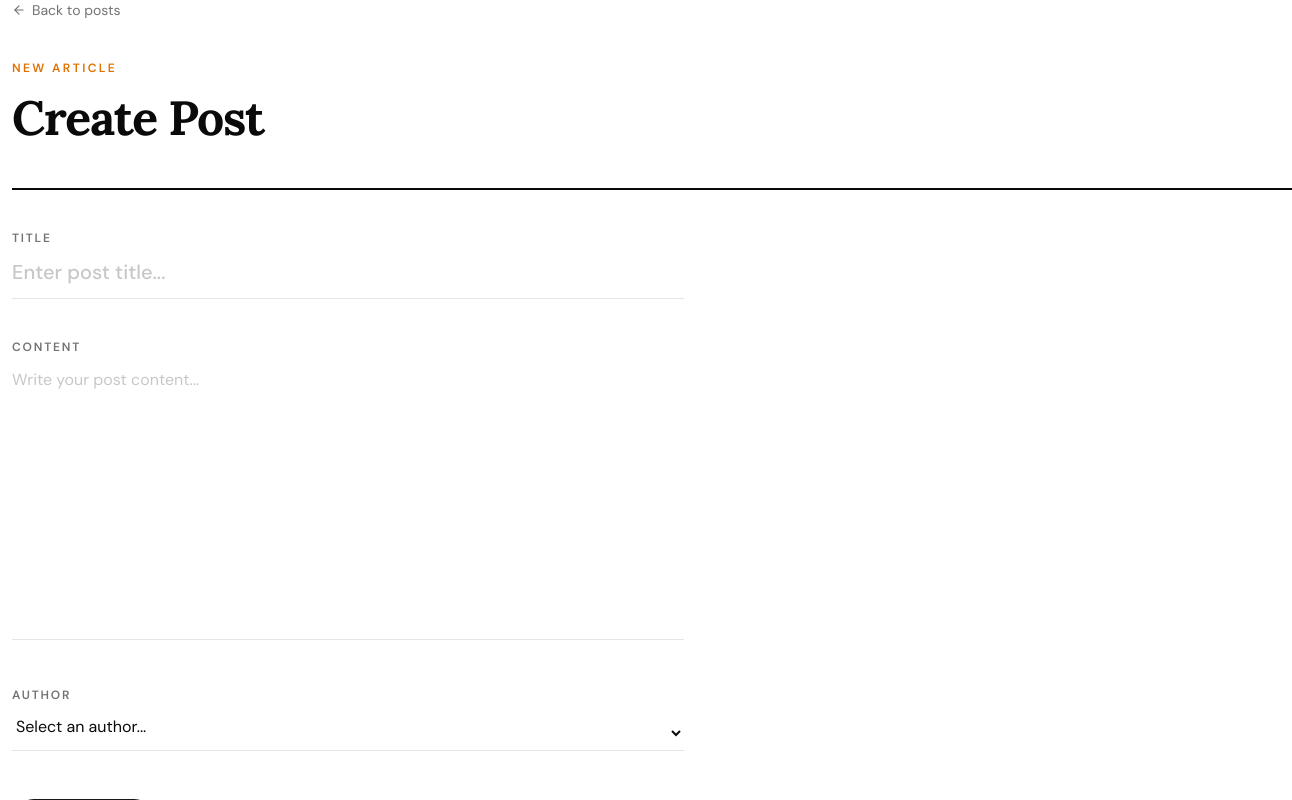
Test: PostForm › create mode › validation › shows an error when the content is shorter than 10 characters
In the field labelled "Title": (348, 278) [12,258,684,299], type "Valid Title"
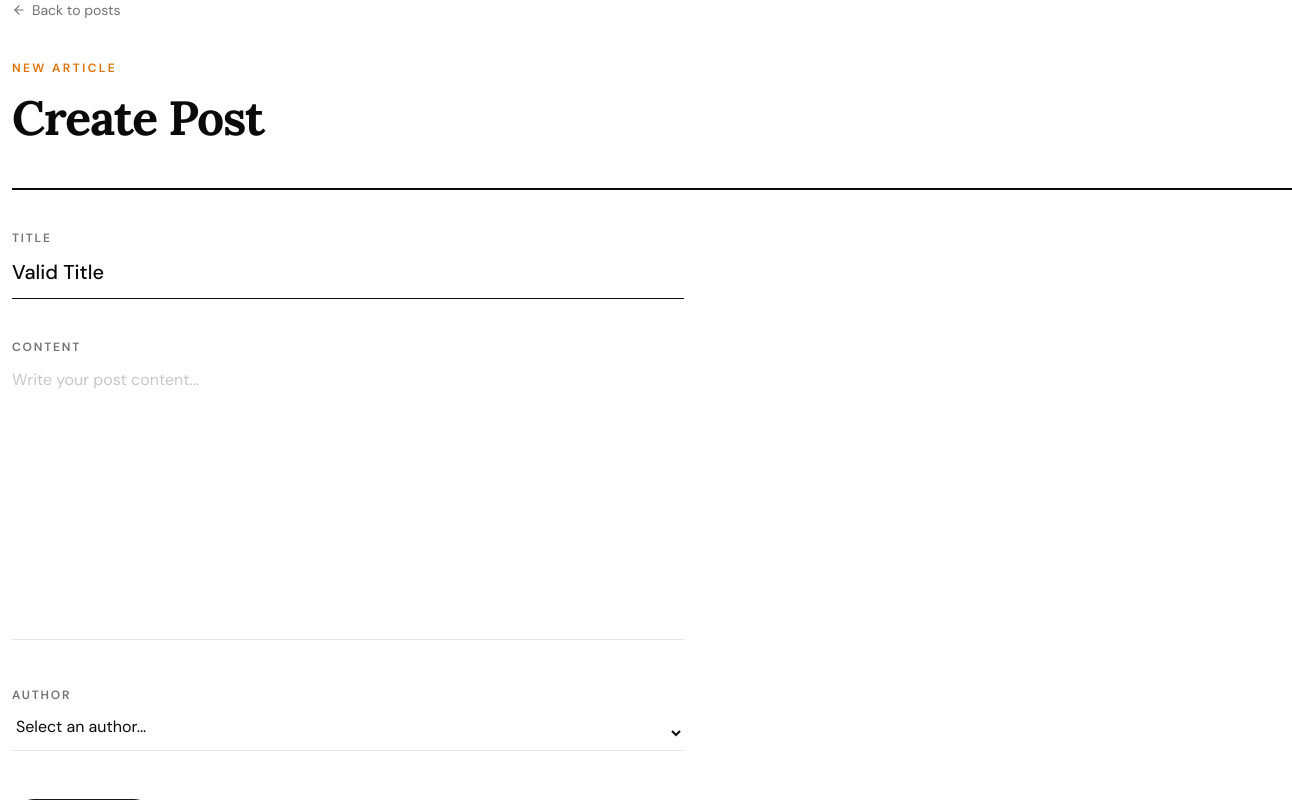
In the text box labelled "Content": (348, 504) [12,367,684,640], type "Short"
(page scrolled)
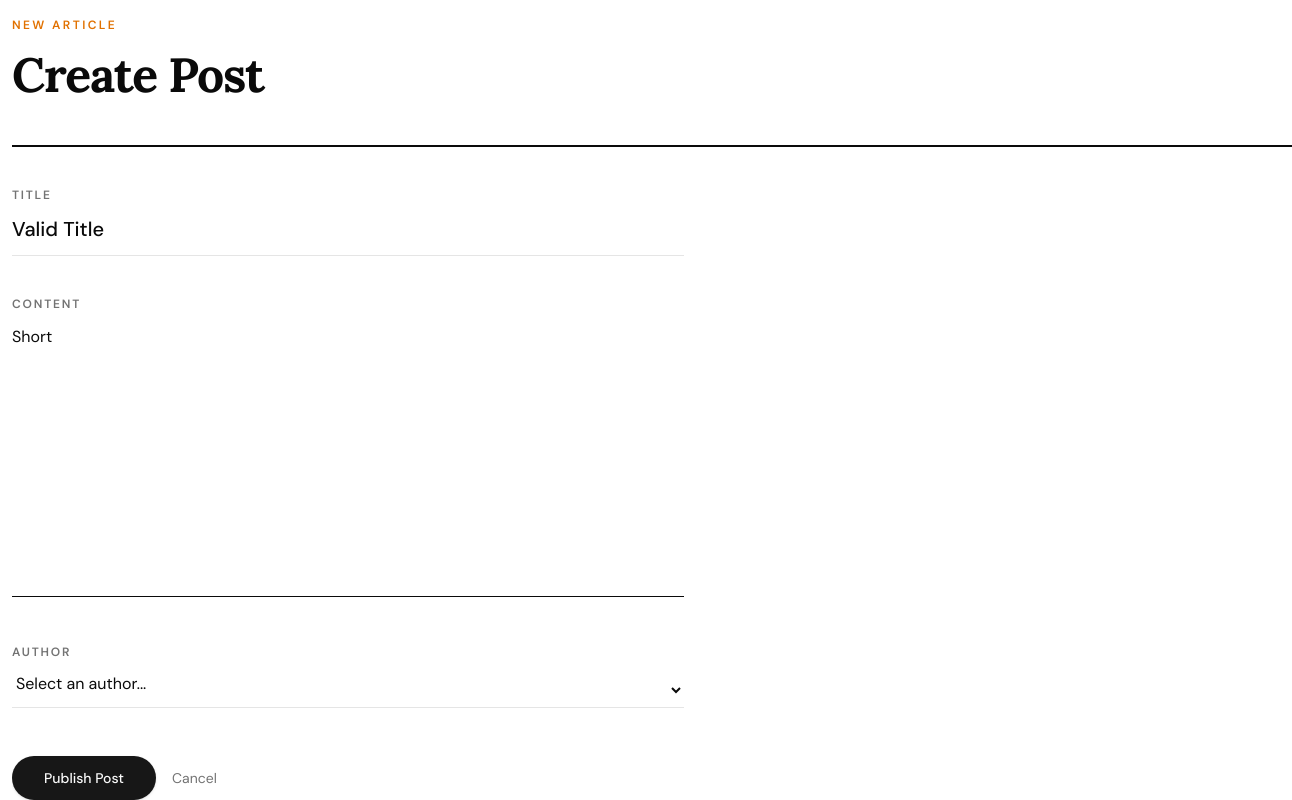
Click the button "Publish Post": (84, 778) [12,756,156,799]
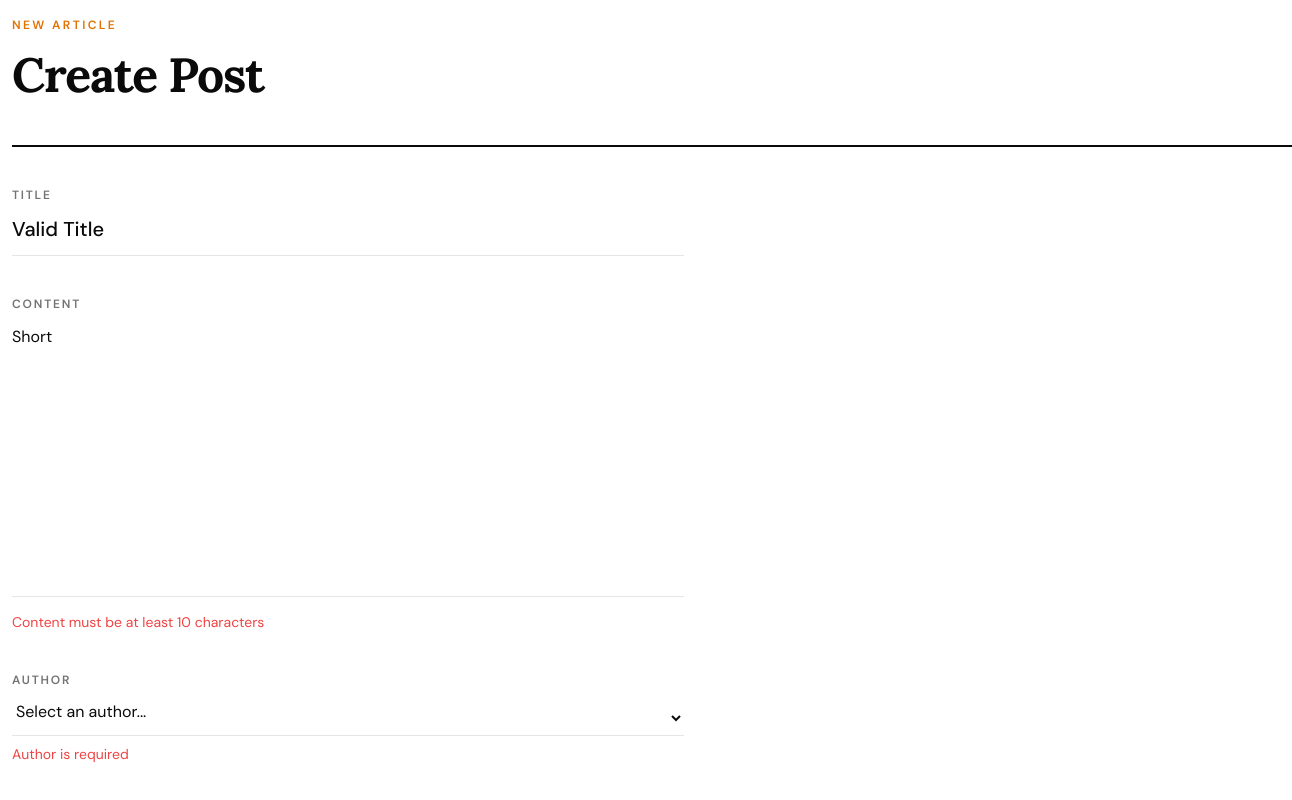
Expected: the text "Content must be at least 10 characters" is shown, [12,613,264,631]
